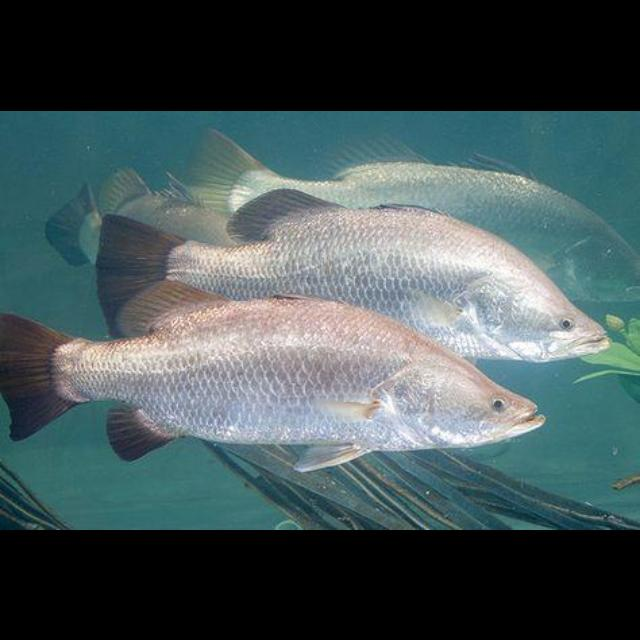Seabass: (0, 279, 544, 472), (97, 189, 608, 359), (185, 126, 639, 304)
